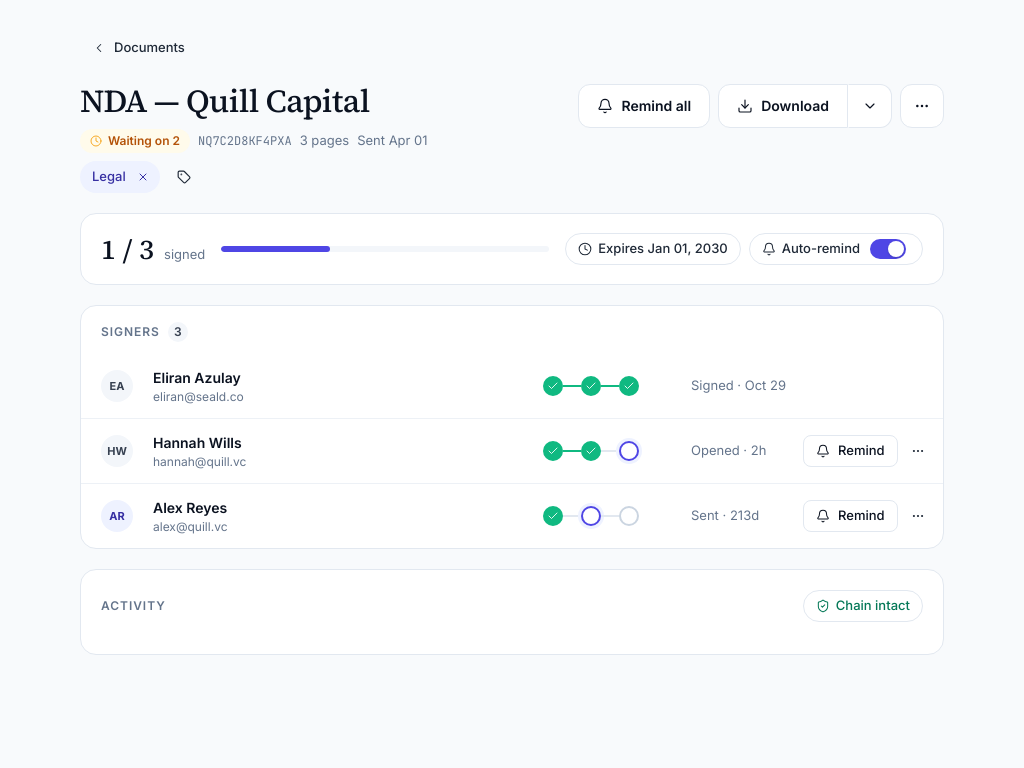
Test: EnvelopeDetailPage › reminders › a row Remind reminds only that signer and flips to Reminded
The image size is (1024, 768).
Expected: the heading "NDA — Quill Capital" is shown, [80,79,370,123]
What coordinates should you click on to do the following:
click the button with aria-label "Remind Hannah Wills"
I would click on:
 (850, 451)
Its box is [803,435,898,467].
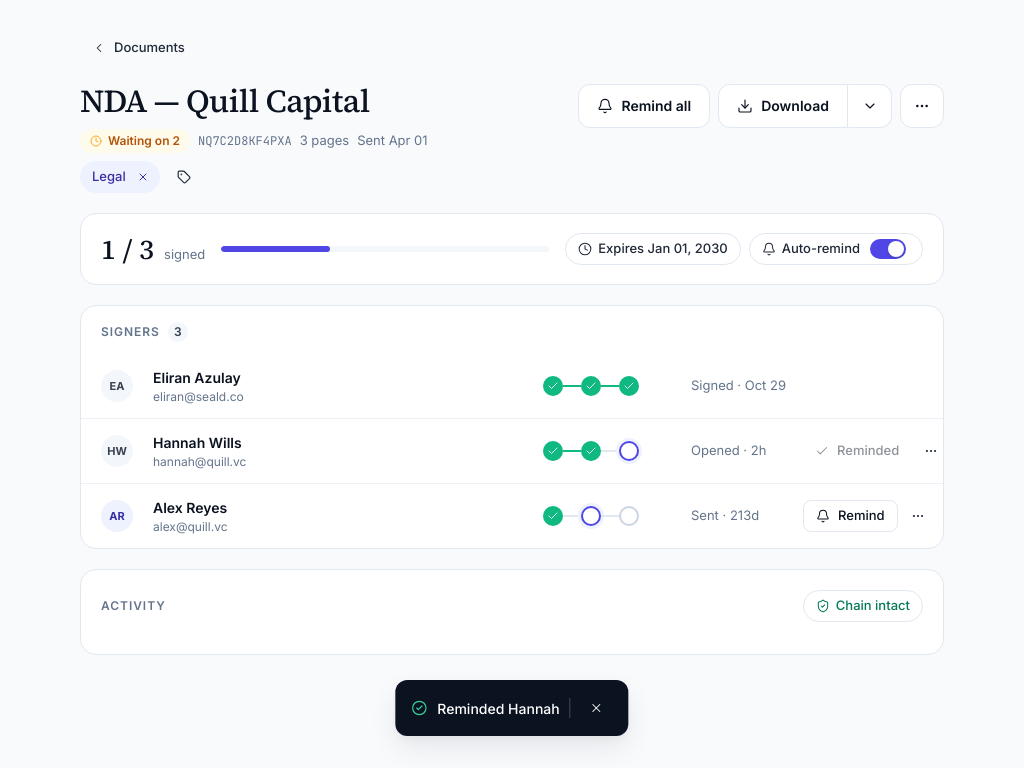
Expected: the number of buttons "Reminded" is 1, [803,435,911,467]
Now the message reads "Reminded Hannah", box [437,700,560,716]
